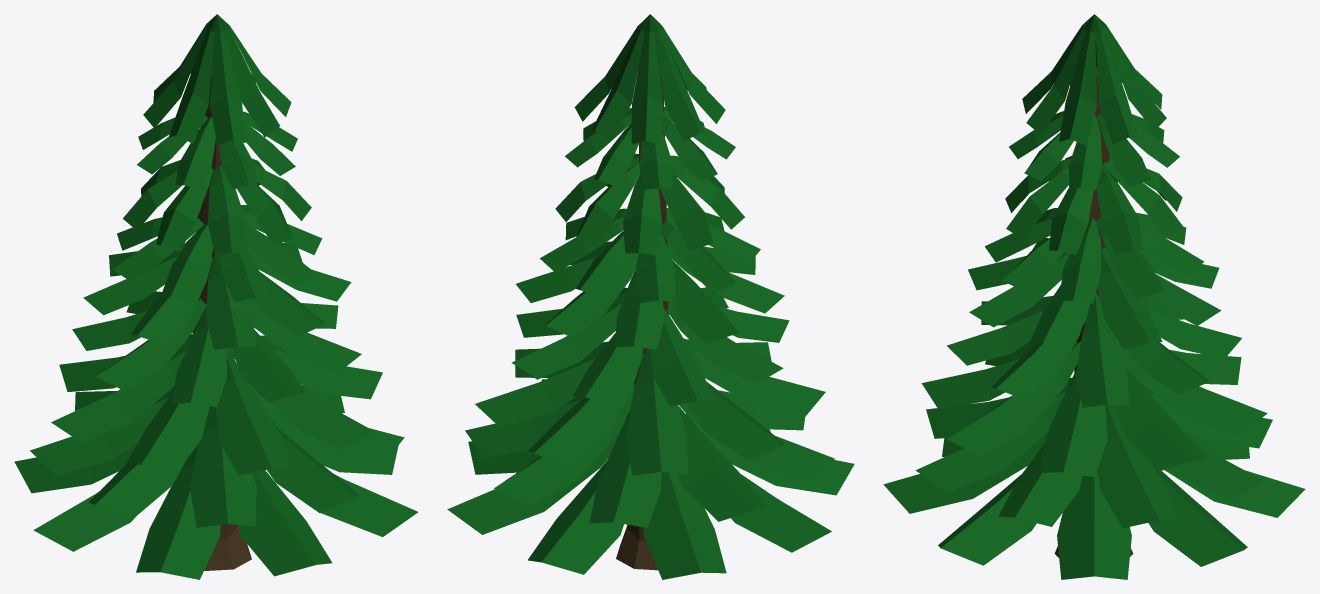
File: FirTree.fbx
The picture shows the model from 3 angles, left to right: view 1: azimuth 30°, elevation 25°; view 2: azimuth 150°, elevation 25°; view 3: azimuth 270°, elevation 25°; orthographic projection.
Parts seen in each view (by area): view 1: FirTree; view 2: FirTree; view 3: FirTree.
Part boxes in pixels (bbox=[...]): FirTree: bbox=[14, 14, 418, 579]; FirTree: bbox=[447, 14, 854, 579]; FirTree: bbox=[883, 14, 1305, 579].
Bounding box in the file's own units: 138 × 195 × 138.
